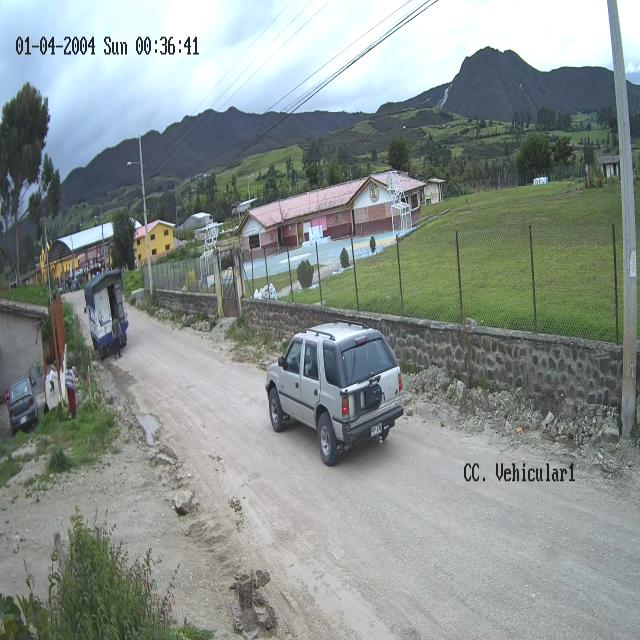CMT: (265, 324, 404, 468)
